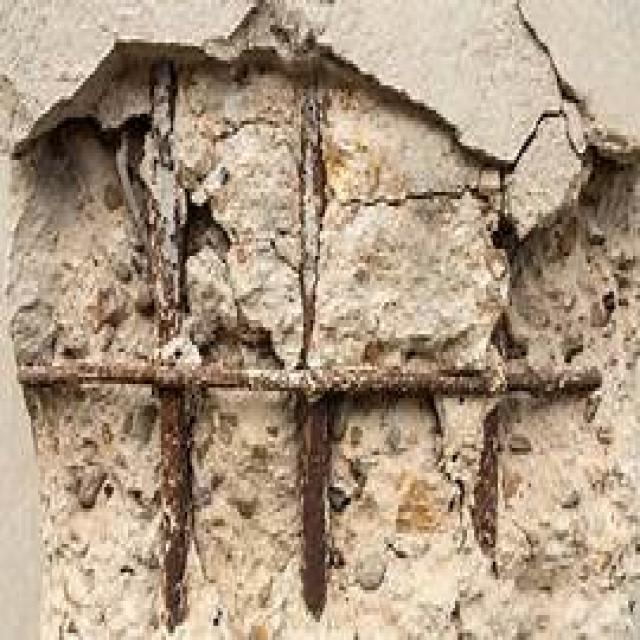Spalling: (1, 0, 639, 639)
corrosion: (21, 367, 604, 390), (301, 388, 328, 609), (164, 383, 187, 619)
